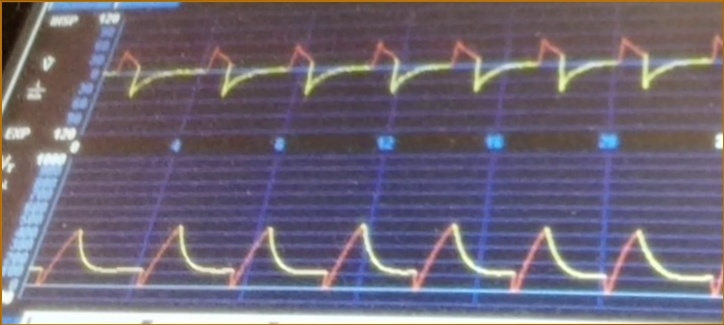Flow: (114, 22, 724, 125)
Leakage Volume: (48, 195, 724, 311)
